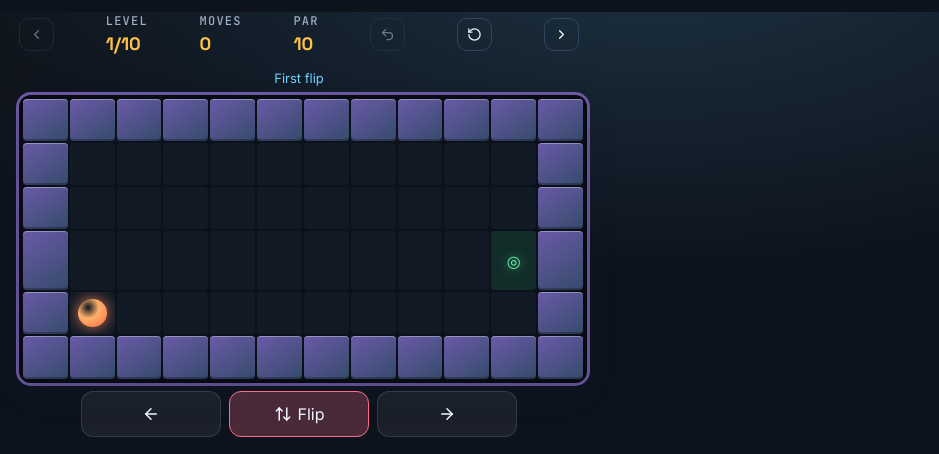
Test: Gravity Flip component › dying reports nothing and can be undone
The width and height of the screenshot is (939, 454).
Click the button named "Next level".
click(561, 34)  # box [544, 18, 579, 51]
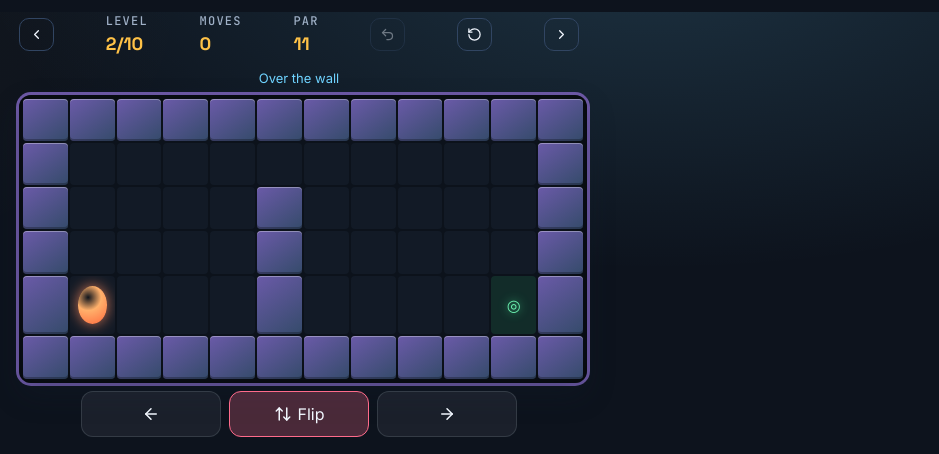
Click the button named "Next level".
click(561, 34)  # box [544, 18, 579, 51]
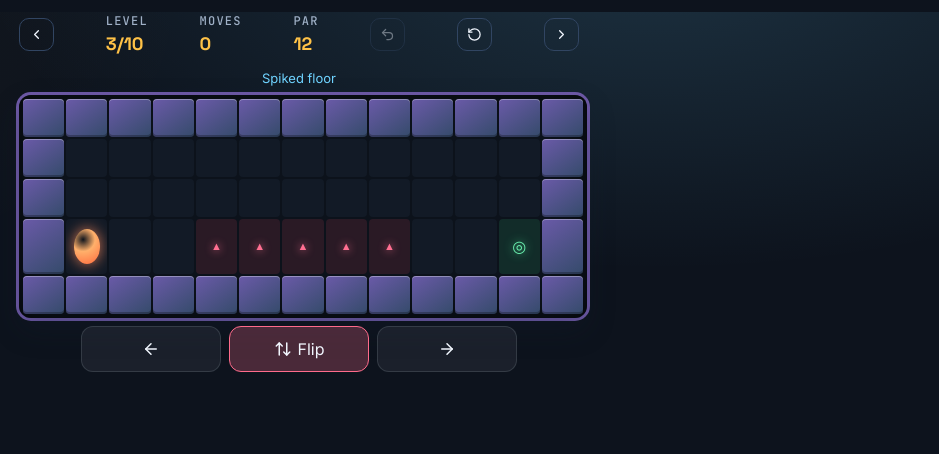
Expected: the text "3/10" is shown, [106, 30, 148, 57]
Press ArrowRight
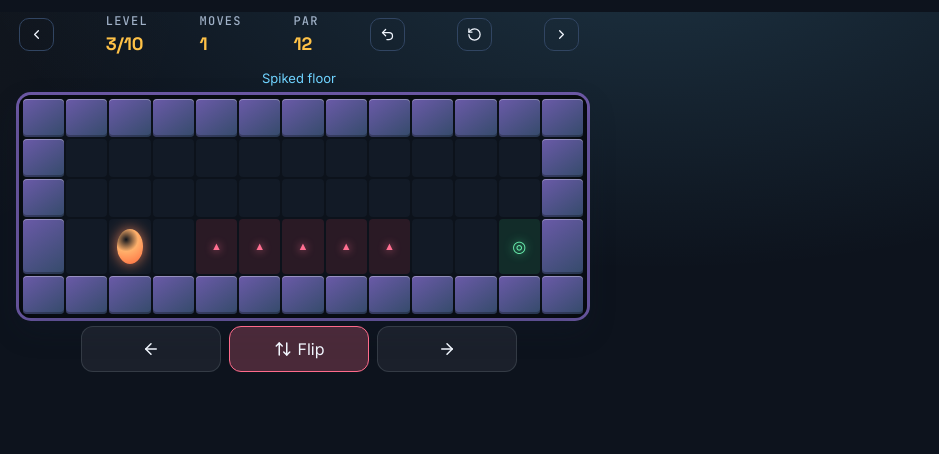
Press ArrowRight
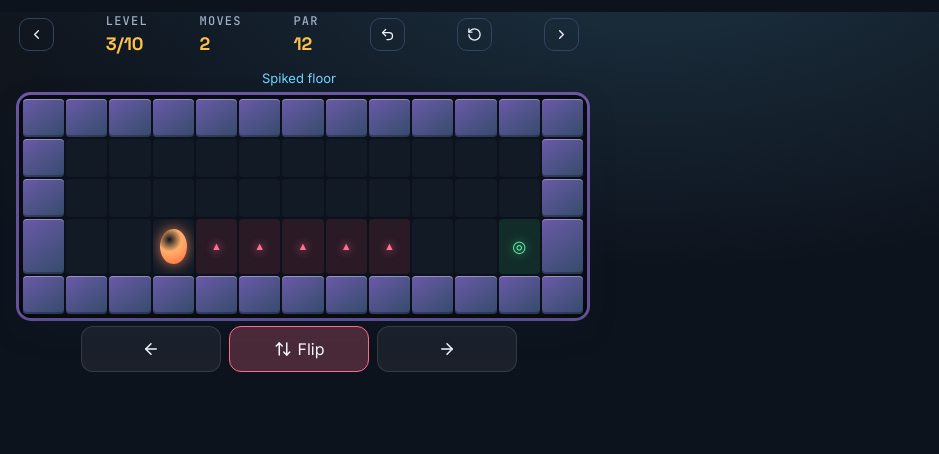
Press ArrowRight
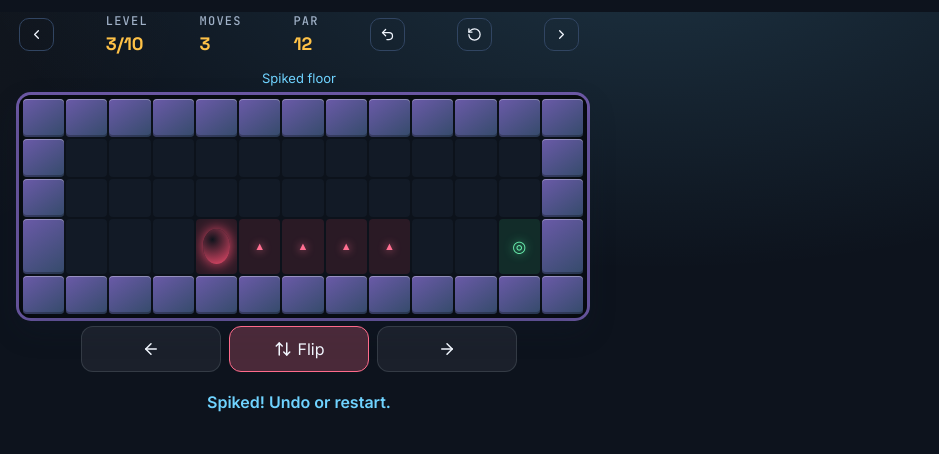
Expected: the text "Spiked! Undo or restart." is shown, [207, 392, 391, 412]
Expected: the element with class "dead" is shown, [203, 229, 230, 264]
Press ArrowLeft
Press z
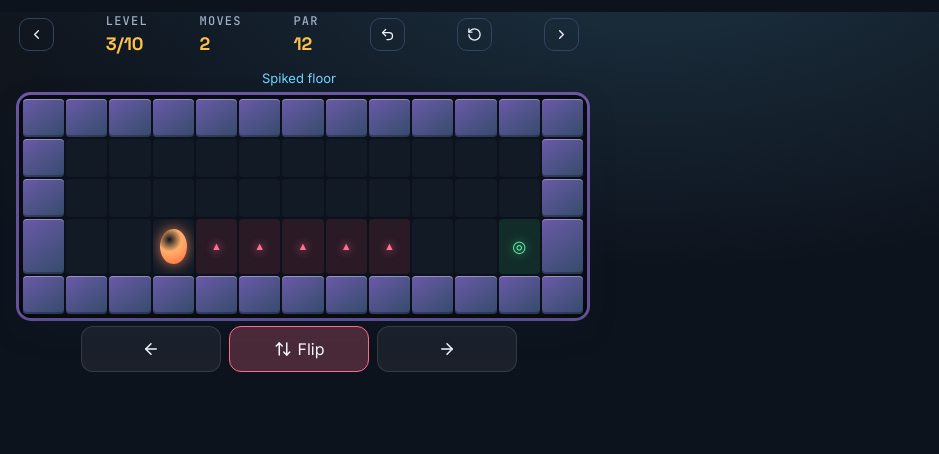
Expected: the text "Spiked!" is gone
